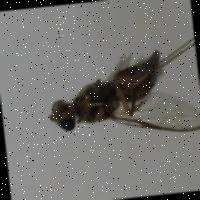Oriental-fruit-fly: (32, 36, 200, 156)
